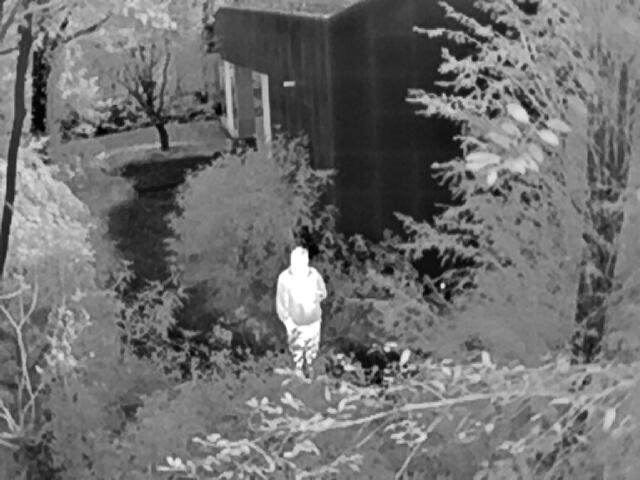person: (274, 247, 324, 372)
